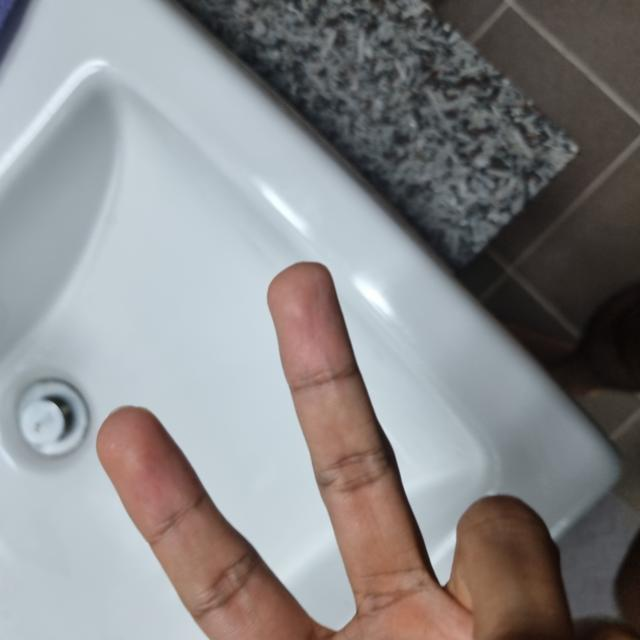Scissors: (0, 93, 376, 638)
